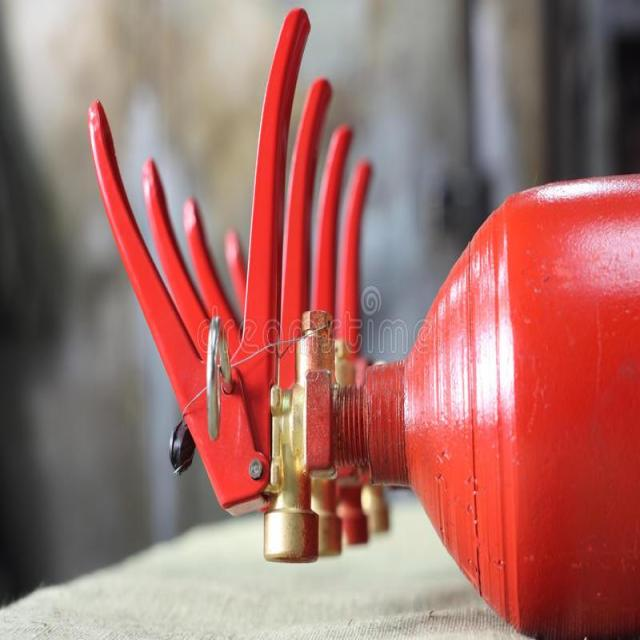fire_extinguisher: (84, 1, 639, 639)
